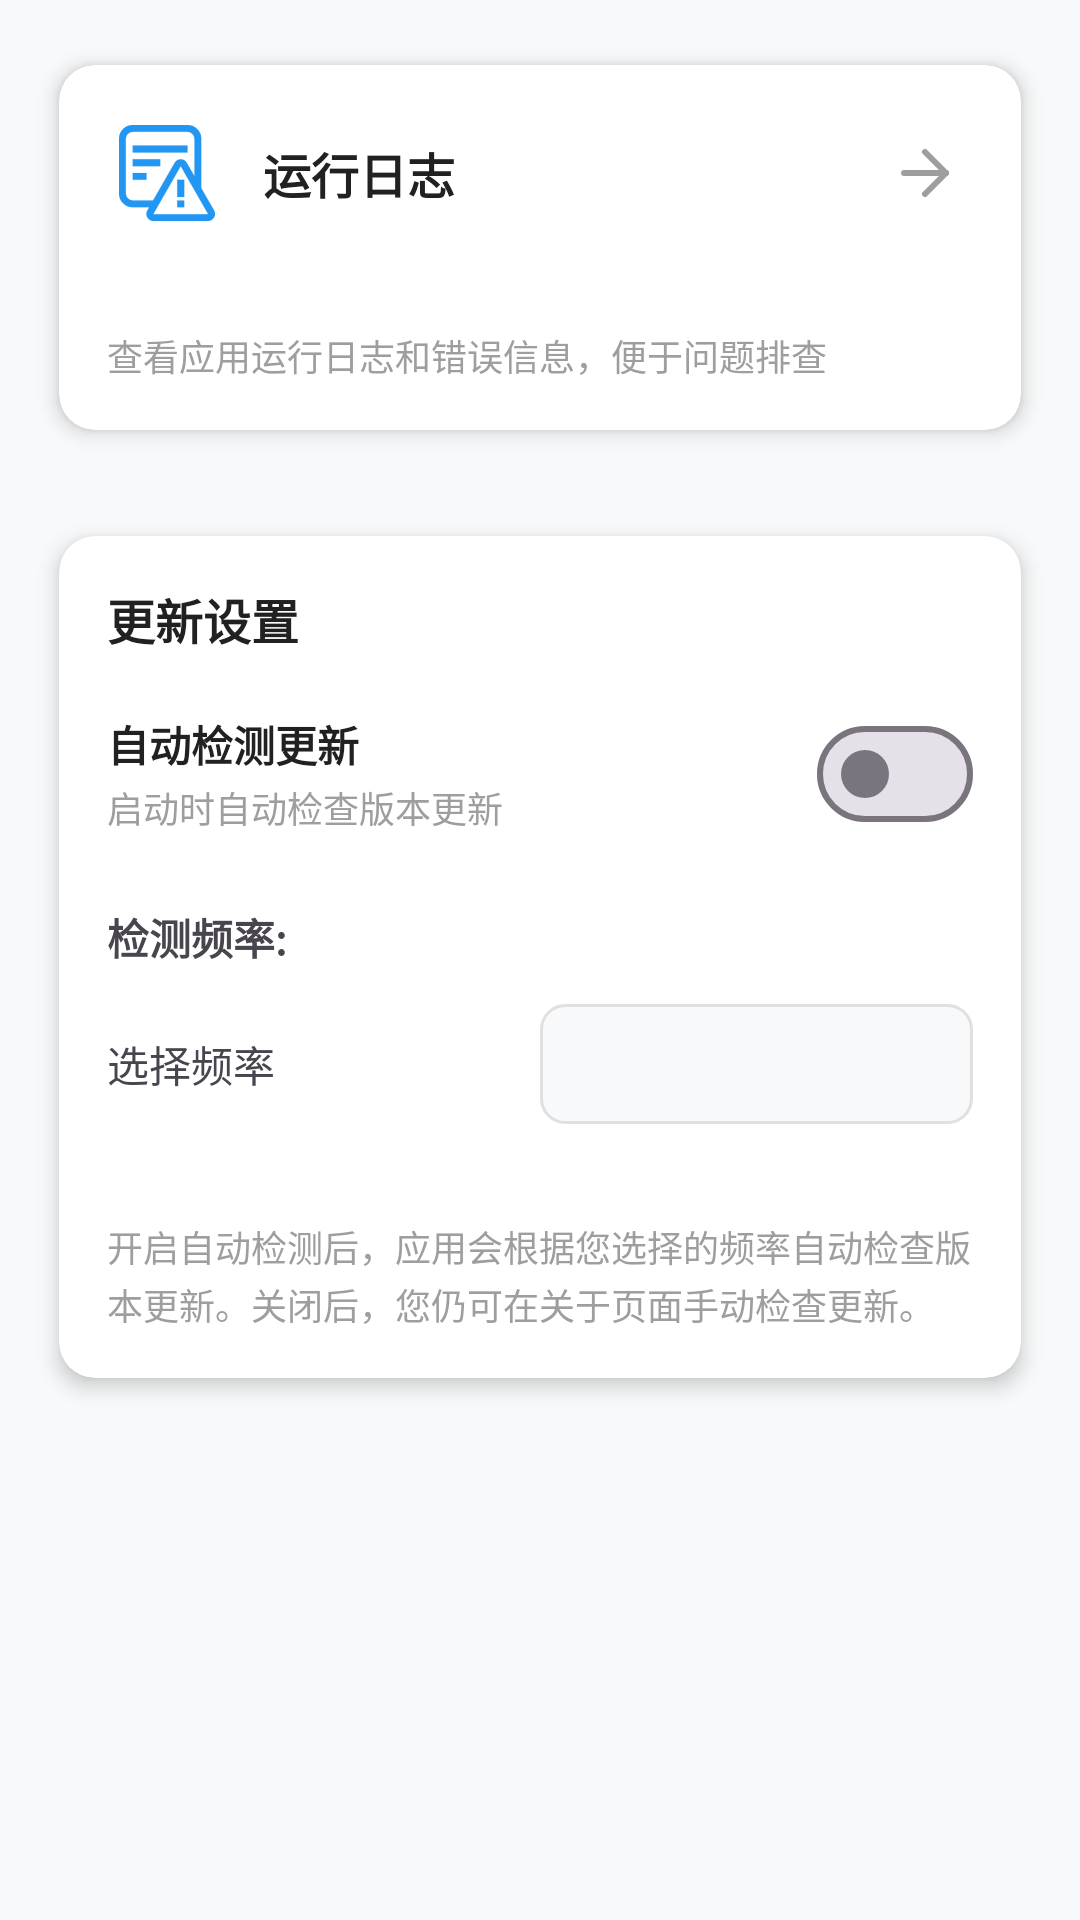

Named icons in this screenshot (1080 x 1920) and their centers, point (x, y):
arrow right: point (925, 173)
log: point (167, 173)
